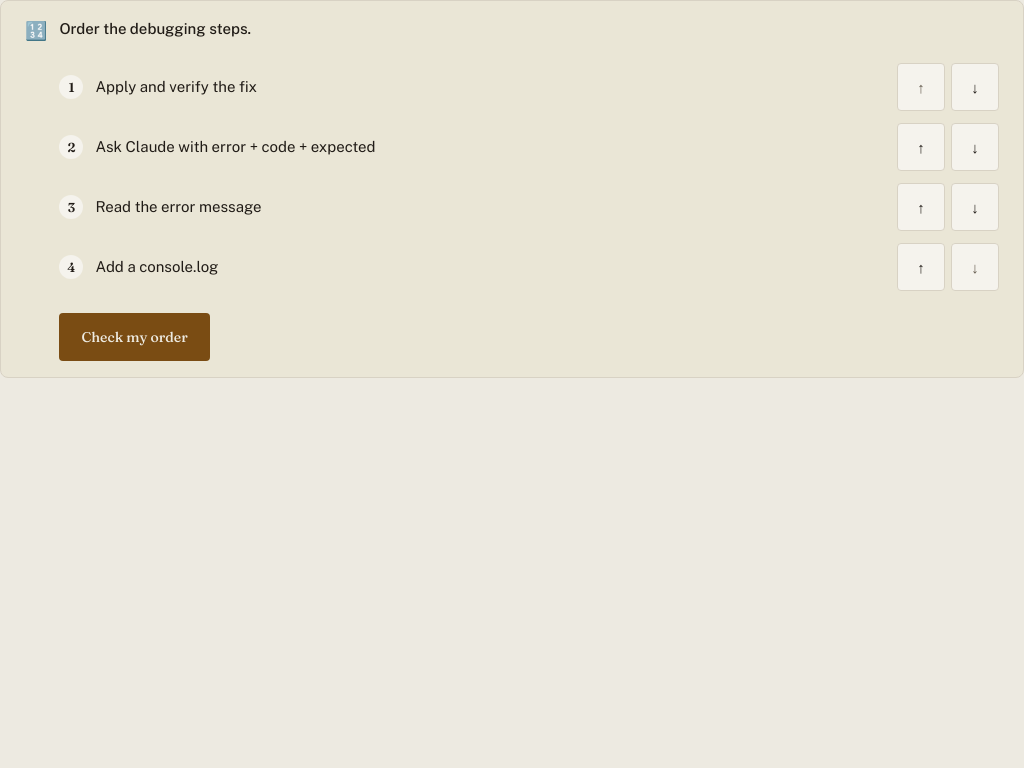
Test: SequenceIt › renders all four steps in some order and reveals explanation after checking
Expected: the text "Read the error message" is shown, x1=96 y1=198 x2=262 y2=215
Expected: the text "Add a console.log" is shown, x1=96 y1=258 x2=218 y2=275
Step 1. Click the button "Check my order" → (135, 337), box x1=60 y1=313 x2=210 y2=361
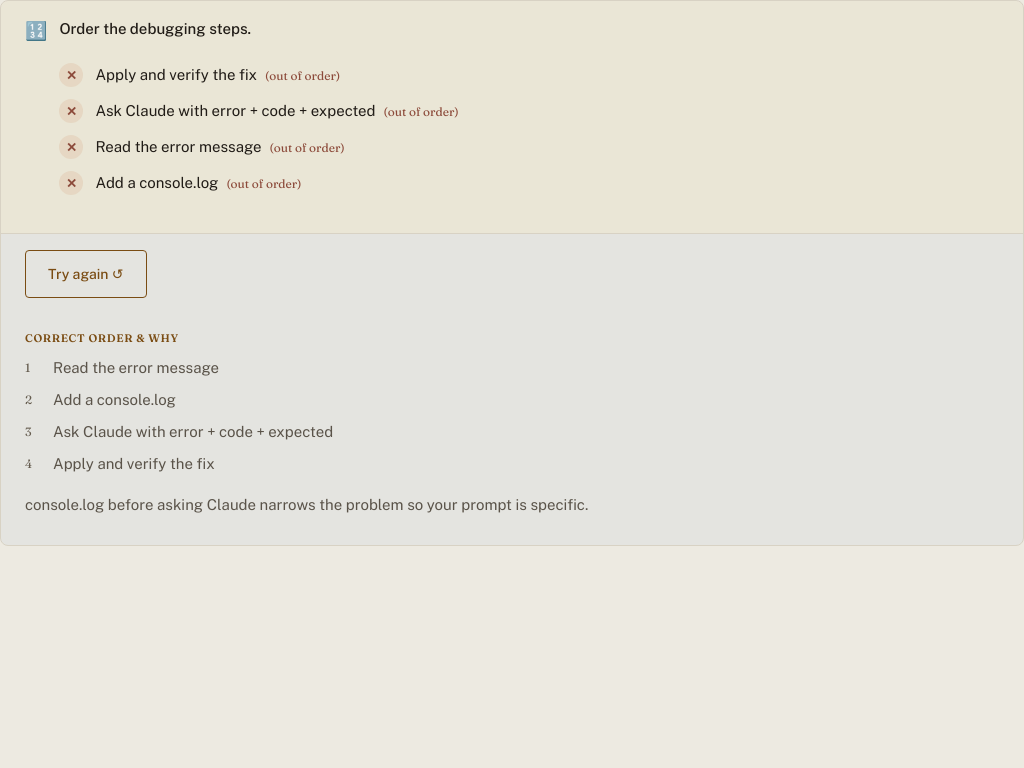
Now the text "narrows the problem" is shown, box x1=25 y1=496 x2=588 y2=513
